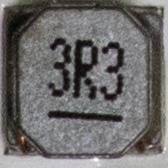Induktor: (3, 3, 163, 161)
